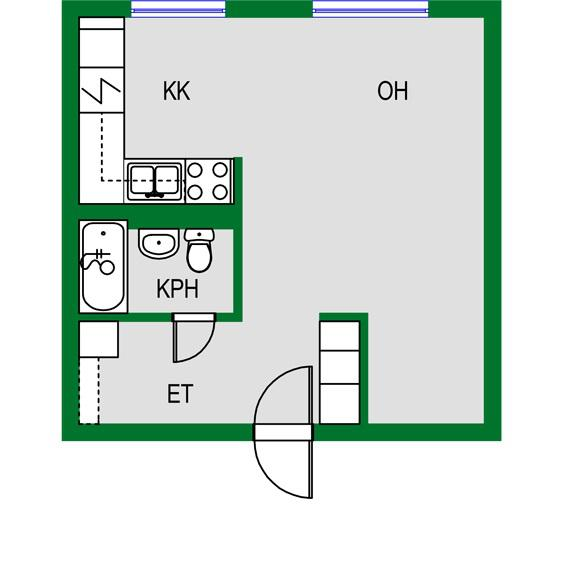bathroom: (76, 220, 234, 314)
door: (250, 421, 318, 504), (245, 362, 316, 440), (167, 311, 218, 364)
perimeter: (62, 2, 499, 442)
window: (307, 0, 438, 23), (125, 0, 236, 20)
